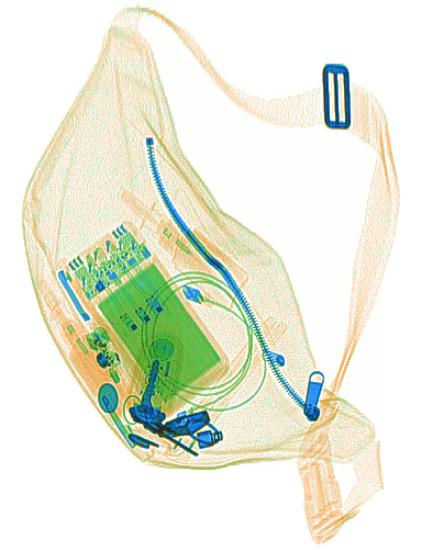plasticBottleWithaNozzle: (113, 187, 246, 310), (43, 291, 138, 417)
